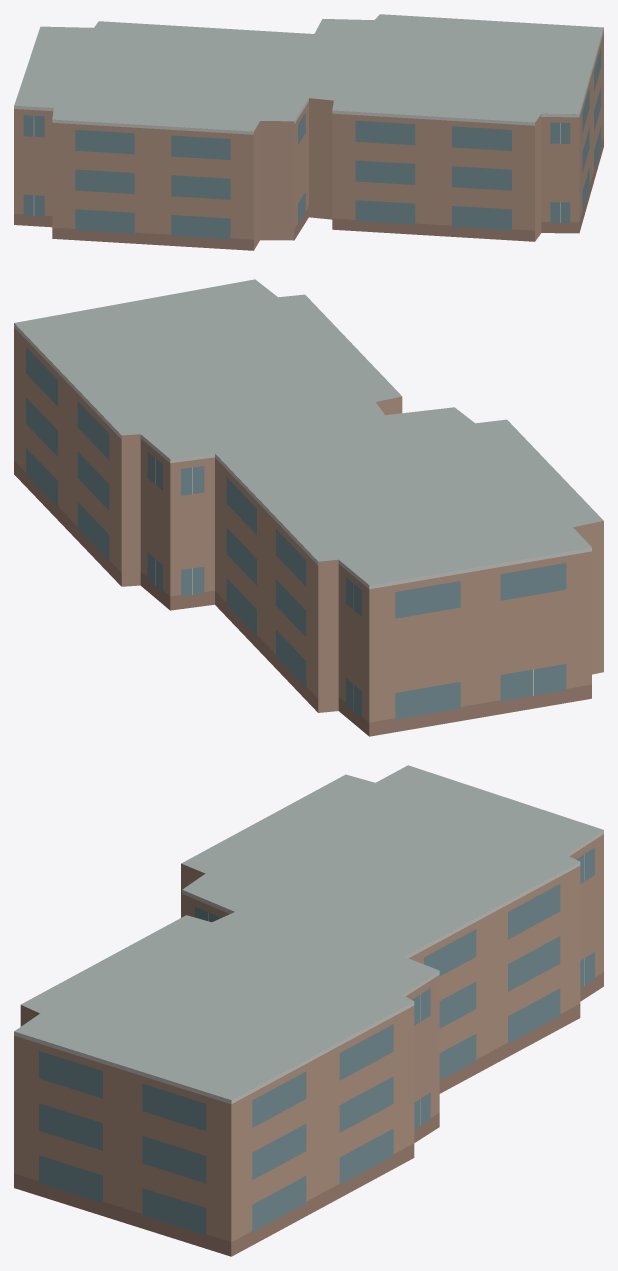
The model's file is survey-upis-32859063.glb.
3 views of the same model, one above another, from view 1: azimuth 30°, elevation 25°; view 2: azimuth 150°, elevation 25°; view 3: azimuth 270°, elevation 25° (orthographic). The views are drawn at different scales.
Parts seen in each view (by area): view 1: survey-upis-32859063.tmp; view 2: survey-upis-32859063.tmp; view 3: survey-upis-32859063.tmp.
Part boxes in pixels (x1,y1,x2,y2): survey-upis-32859063.tmp: [14, 14, 603, 250]; survey-upis-32859063.tmp: [14, 279, 603, 736]; survey-upis-32859063.tmp: [14, 765, 603, 1256].
Size of the model in its own units: 41.98 by 9.15 by 31.24.
